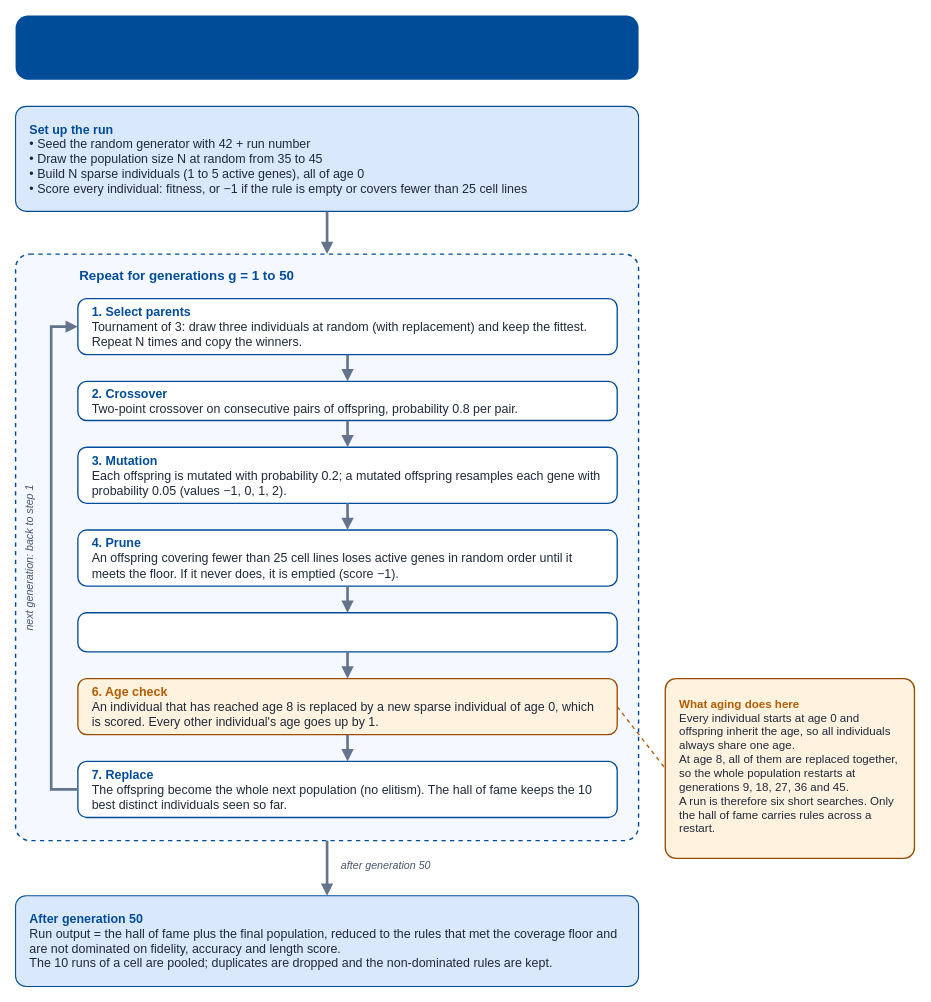
Some shapes in this 931 by 1002 pixel diagram are drawn without their labels. The centre of each missing label's shape, as x and y in pixels:
"5. Score Score the offspring that have no valid score." goes at [347,632].
"PDERE-GA one run for one drug, network and fold" goes at [326,47].
